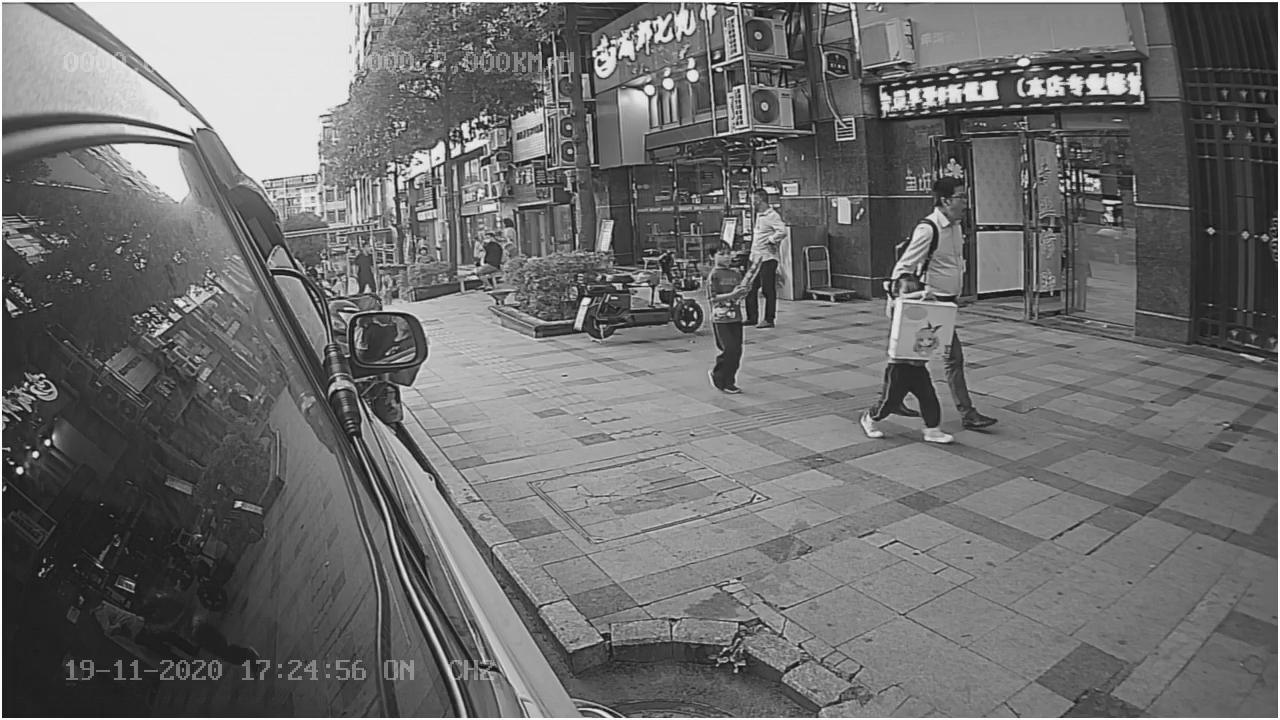person: (699, 234, 754, 397), (906, 175, 977, 275)
